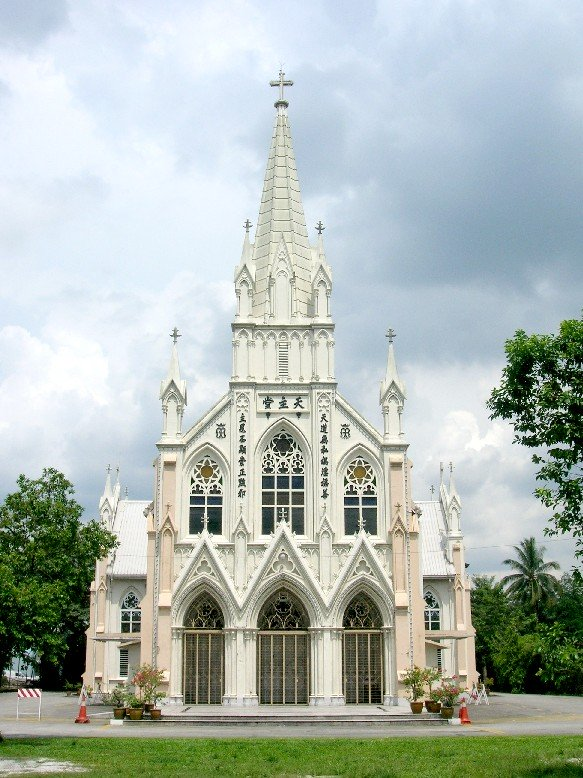Church: (95, 53, 461, 689)
